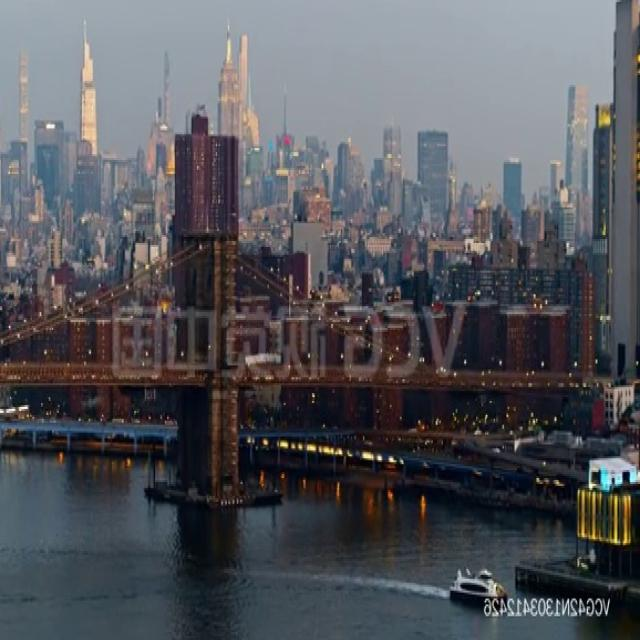houseboat: (451, 563, 512, 605)
